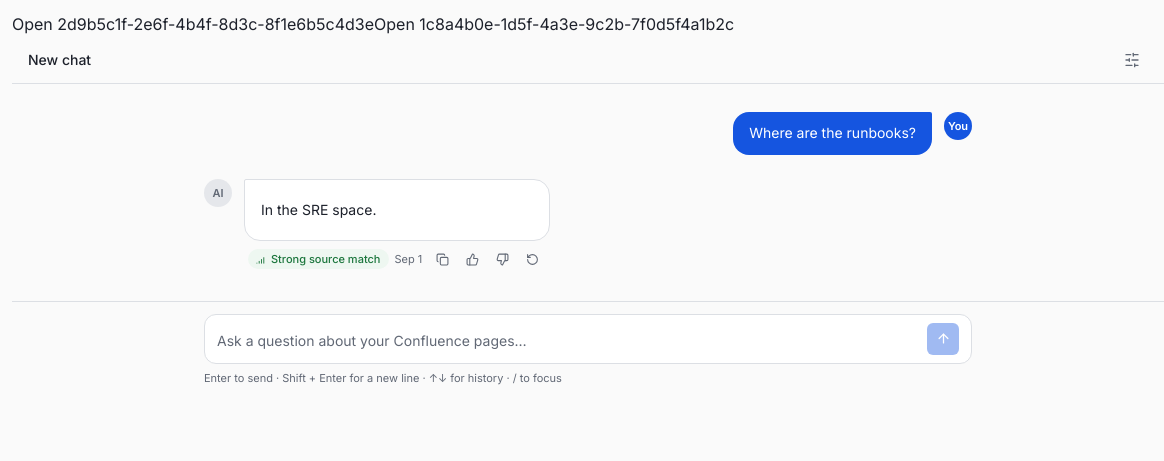
opening a new chat › does not resurrect the greeting when returning to a conversation after visiting a new one
Expected: the text "In the SRE space." is shown, x1=261 y1=201 x2=376 y2=218
Step 1. Click the link "Open 2d9b5c1f-2e6f-4b4f-8d3c-8f1e6b5c4d3e" → (35, 24), box x1=12 y1=14 x2=374 y2=34
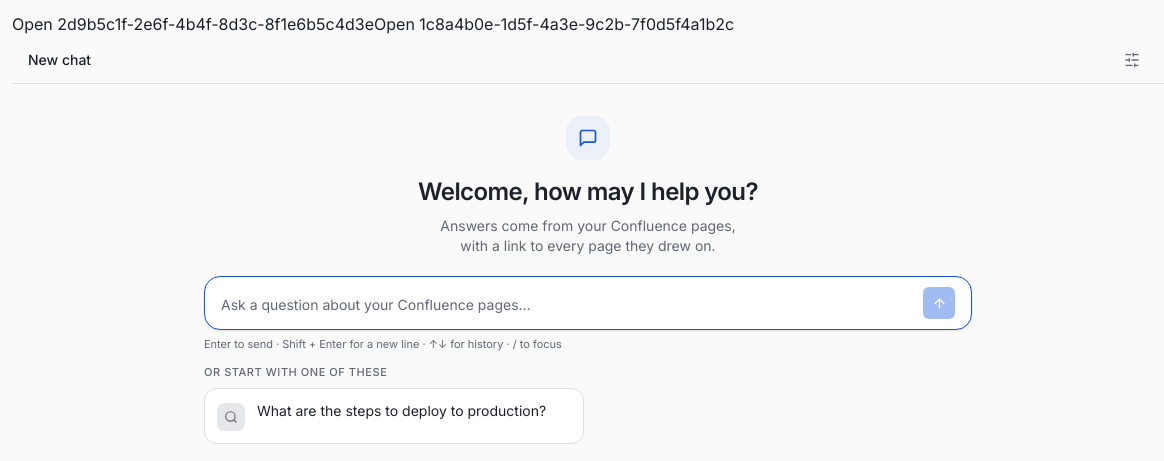
Expected: the heading "Welcome, how may I help you?" is shown, x1=418 y1=176 x2=758 y2=208
Step 2. Click the link "Open 1c8a4b0e-1d5f-4a3e-9c2b-7f0d5f4a1b2c" → (397, 24), box x1=374 y1=14 x2=734 y2=34
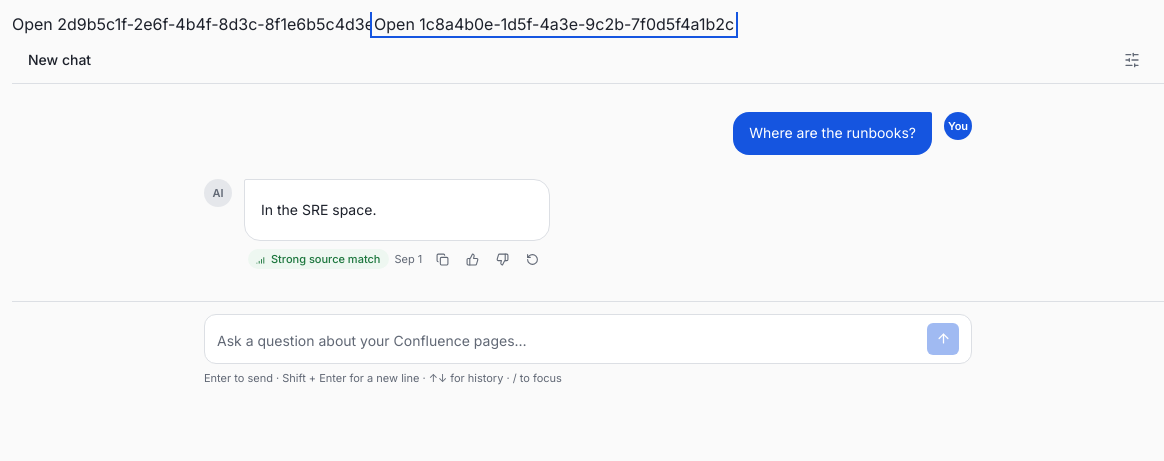
Expected: the heading "how may I help you" is gone
Expected: the text "In the SRE space." is shown once, x1=261 y1=201 x2=376 y2=218
Expected: the text "Where are the runbooks?" is shown once, x1=749 y1=122 x2=916 y2=145
